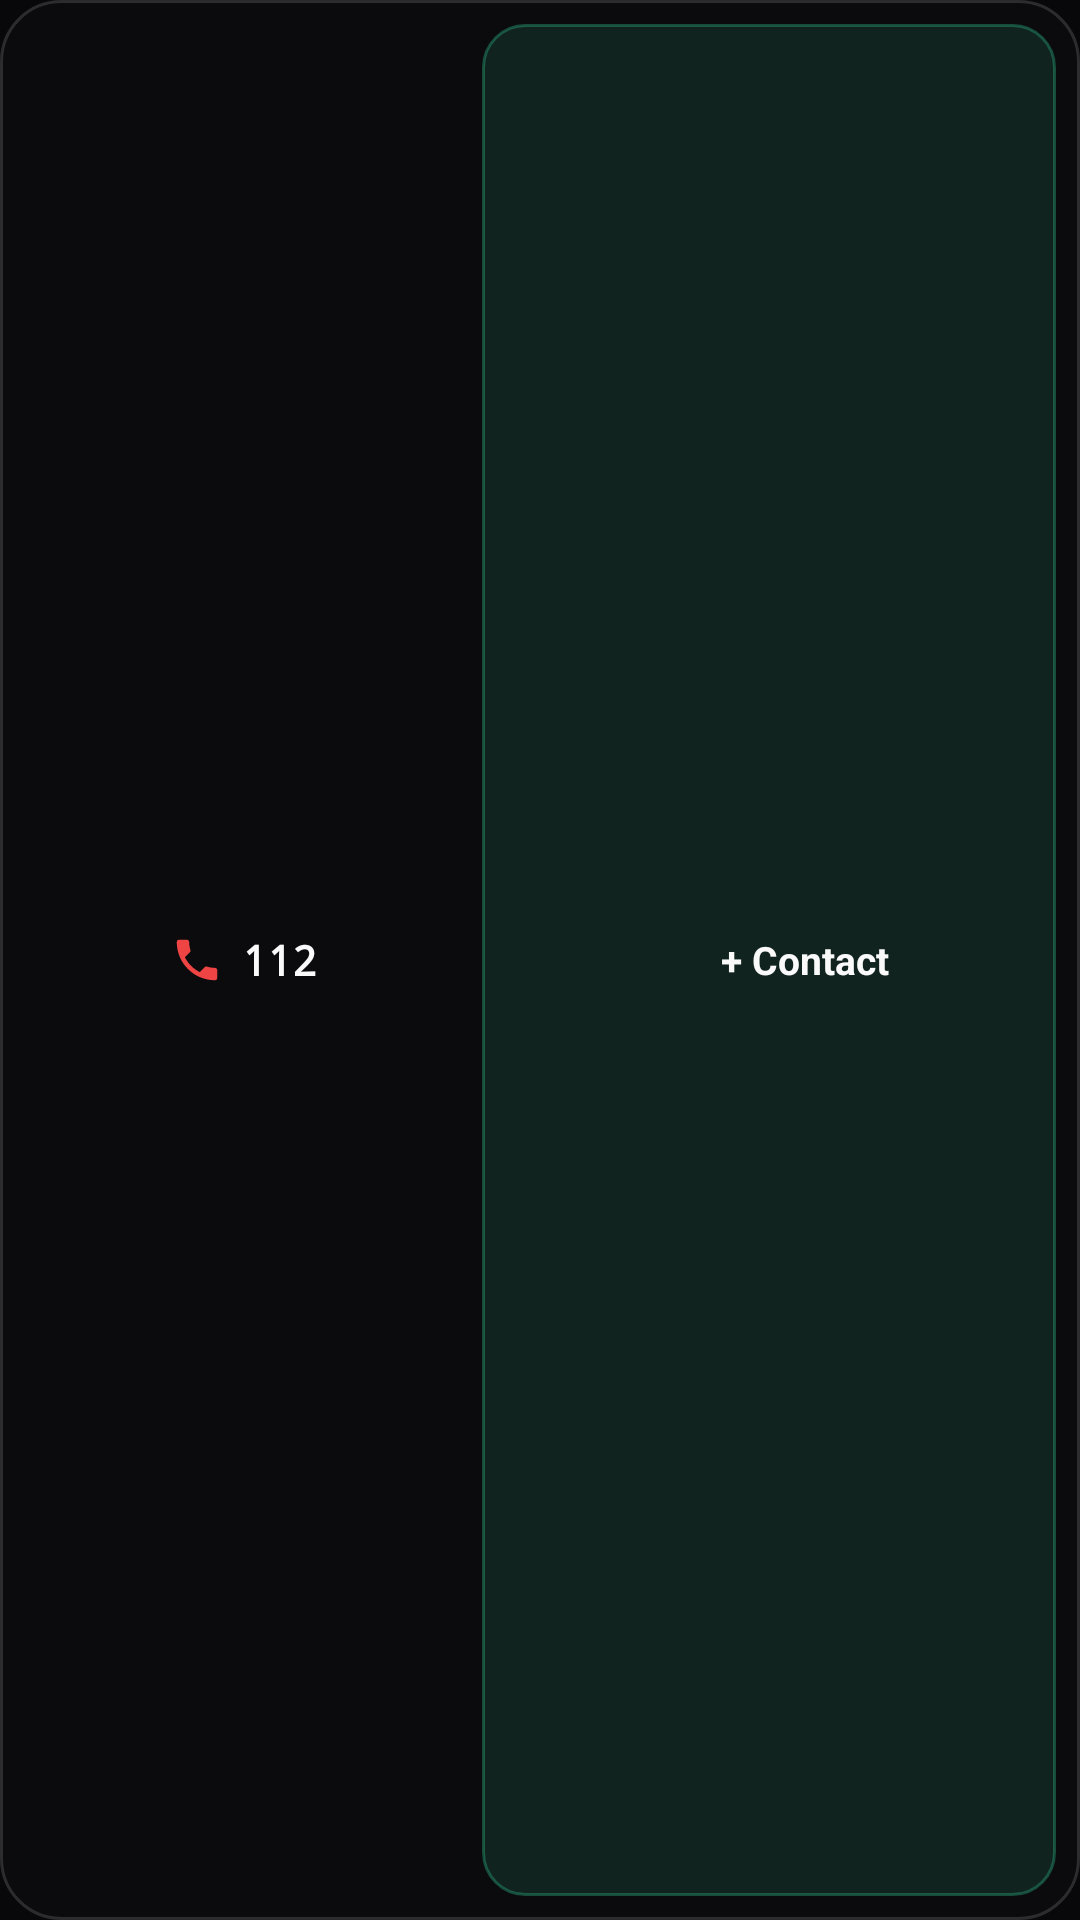

Point at icon controls on the screen. Image size 1080px x 1920px, points as (x=x, y=y).
Dial 112: (x=197, y=960)
